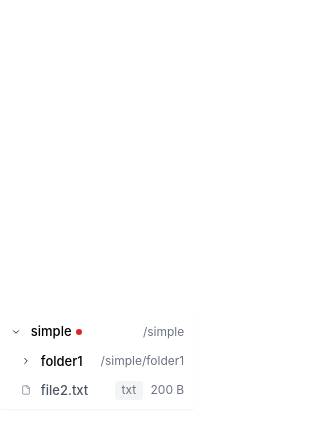
Scenario: FolderBrowser › Context Menu › shows file context menu on right-click
Click the button without text in the row of "/simple/folder1": (26, 361) [21,356,31,366]
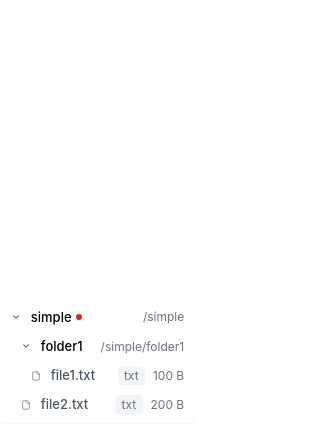
Right-click file
Right-click the text "file1.txt": (75, 376) [51,367,100,384]
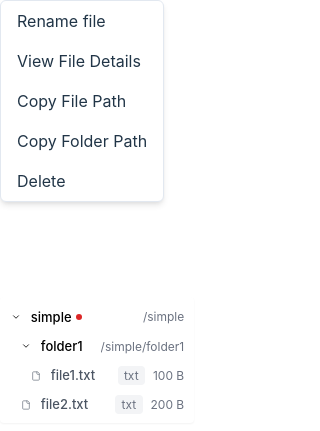
Check: the text "Rename file" is shown, box [17,11,106,31]
Check: the text "View File Details" is shown, box [17,51,141,71]
Check: the text "Copy File Path" is shown, box [17,91,126,111]
